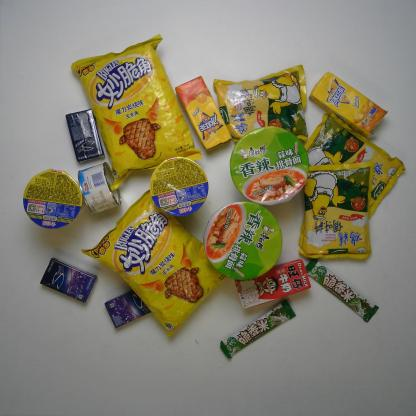Canned Food: (77, 160, 123, 216)
Chocolate: (304, 258, 380, 323), (218, 298, 297, 359)
Drink: (306, 70, 389, 142), (174, 74, 232, 152)
Gum: (39, 257, 98, 304), (65, 108, 106, 164), (104, 289, 154, 329)
Instant Noodles: (200, 200, 284, 283), (229, 124, 310, 209), (22, 169, 83, 229), (150, 156, 209, 216)
Milk: (234, 257, 314, 310)
Puffed Food: (79, 186, 228, 340), (68, 29, 206, 191)
Seasoner: (300, 108, 408, 219), (296, 163, 373, 265), (212, 63, 310, 142)
